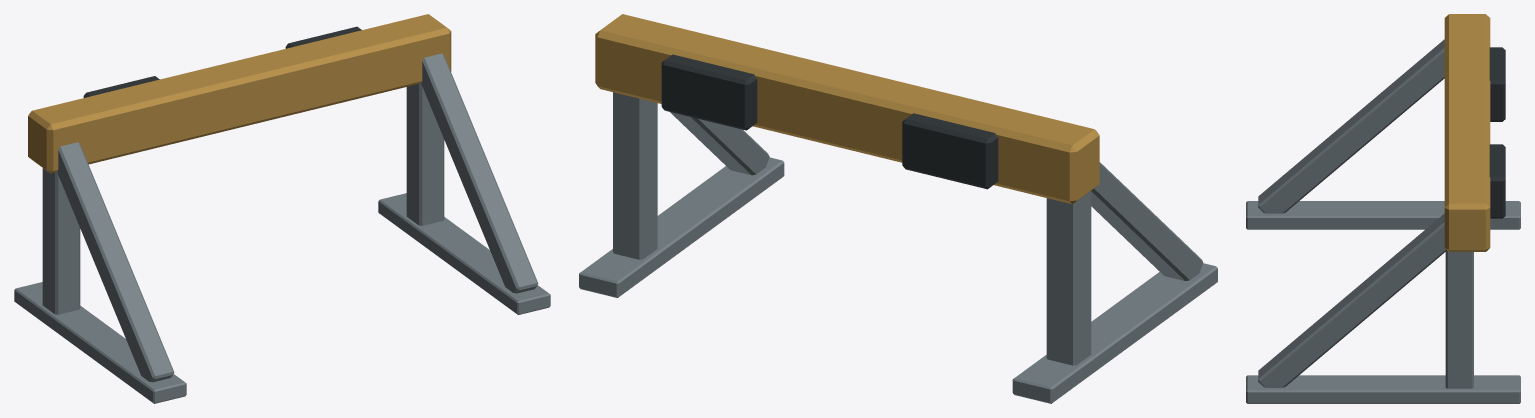
3 views of the same model, side by side, from view 1: azimuth 30°, elevation 25°; view 2: azimuth 150°, elevation 25°; view 3: azimuth 270°, elevation 25° (orthographic). The views are drawn at different scales.
Parts seen in each view (by area): view 1: Cross buffer beam, Rear diagonal brace.001, Rear diagonal brace, Rail head mounting shoe.001, Rail head mounting shoe, Buffer upright, Buffer upright.001; view 2: Cross buffer beam, Rail head mounting shoe.001, Rail head mounting shoe, Buffer upright, Buffer upright.001, Static buffer pad.001, Static buffer pad, Rear diagonal brace, Rear diagonal brace.001; view 3: Cross buffer beam, Rail head mounting shoe.001, Rear diagonal brace.001, Rear diagonal brace, Rail head mounting shoe, Buffer upright.001, Static buffer pad, Static buffer pad.001.
Part boxes in pixels (x1=…): Cross buffer beam: x1=28, y1=14, x2=451, y2=173; Rear diagonal brace.001: x1=421, y1=53, x2=538, y2=293; Rear diagonal brace: x1=57, y1=142, x2=174, y2=382; Rail head mounting shoe.001: x1=378, y1=193, x2=550, y2=314; Rail head mounting shoe: x1=14, y1=282, x2=186, y2=403; Buffer upright: x1=42, y1=168, x2=80, y2=314; Buffer upright.001: x1=406, y1=82, x2=444, y2=225; Cross buffer beam: x1=595, y1=14, x2=1099, y2=204; Rail head mounting shoe.001: x1=579, y1=157, x2=784, y2=297; Rail head mounting shoe: x1=1012, y1=263, x2=1217, y2=403; Buffer upright: x1=1046, y1=191, x2=1091, y2=365; Buffer upright.001: x1=613, y1=92, x2=657, y2=259; Static buffer pad.001: x1=661, y1=54, x2=757, y2=130; Static buffer pad: x1=902, y1=113, x2=998, y2=189; Rear diagonal brace: x1=1091, y1=162, x2=1203, y2=281; Rear diagonal brace.001: x1=670, y1=112, x2=769, y2=175; Cross buffer beam: x1=1444, y1=14, x2=1490, y2=251; Rail head mounting shoe.001: x1=1246, y1=375, x2=1520, y2=403; Rear diagonal brace.001: x1=1258, y1=213, x2=1445, y2=387; Rear diagonal brace: x1=1258, y1=39, x2=1444, y2=213; Rail head mounting shoe: x1=1246, y1=201, x2=1520, y2=229; Buffer upright.001: x1=1445, y1=249, x2=1473, y2=388; Static buffer pad: x1=1489, y1=47, x2=1505, y2=121; Static buffer pad.001: x1=1489, y1=144, x2=1505, y2=218.
Bounding box in the file's own units: 1.2 × 0.58 × 0.72.
